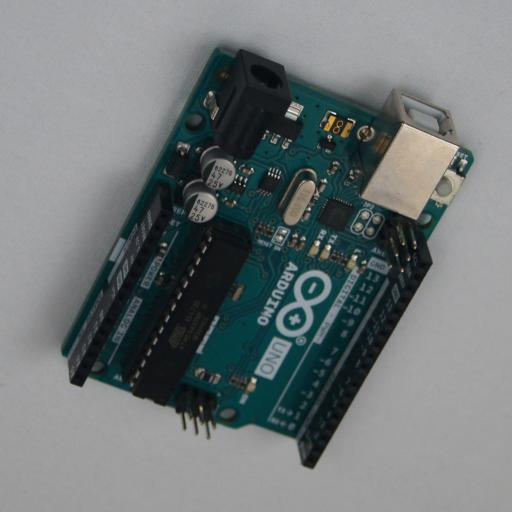Arduino Uno -Green-: (61, 44, 474, 469)
